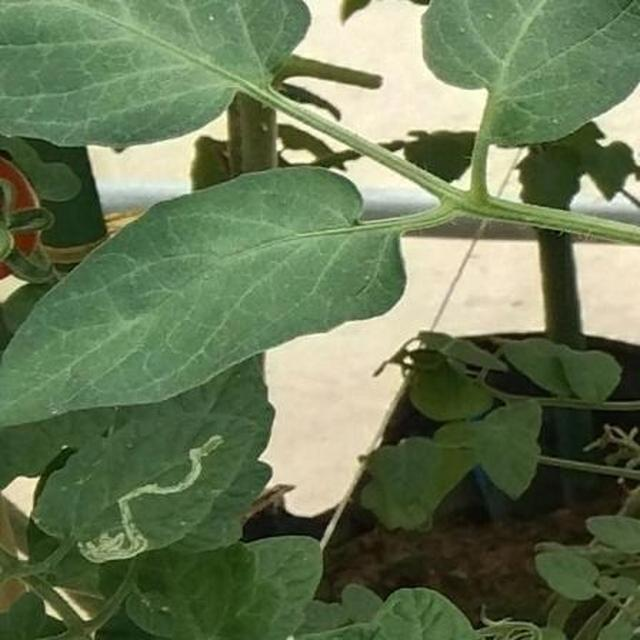Leaf Miner: (208, 234, 587, 640)
